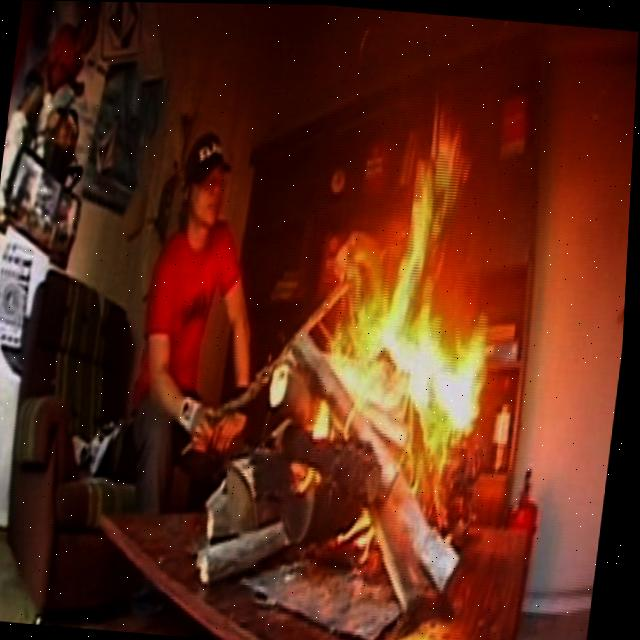fire: (332, 107, 490, 525)
smoke: (306, 4, 559, 125)
